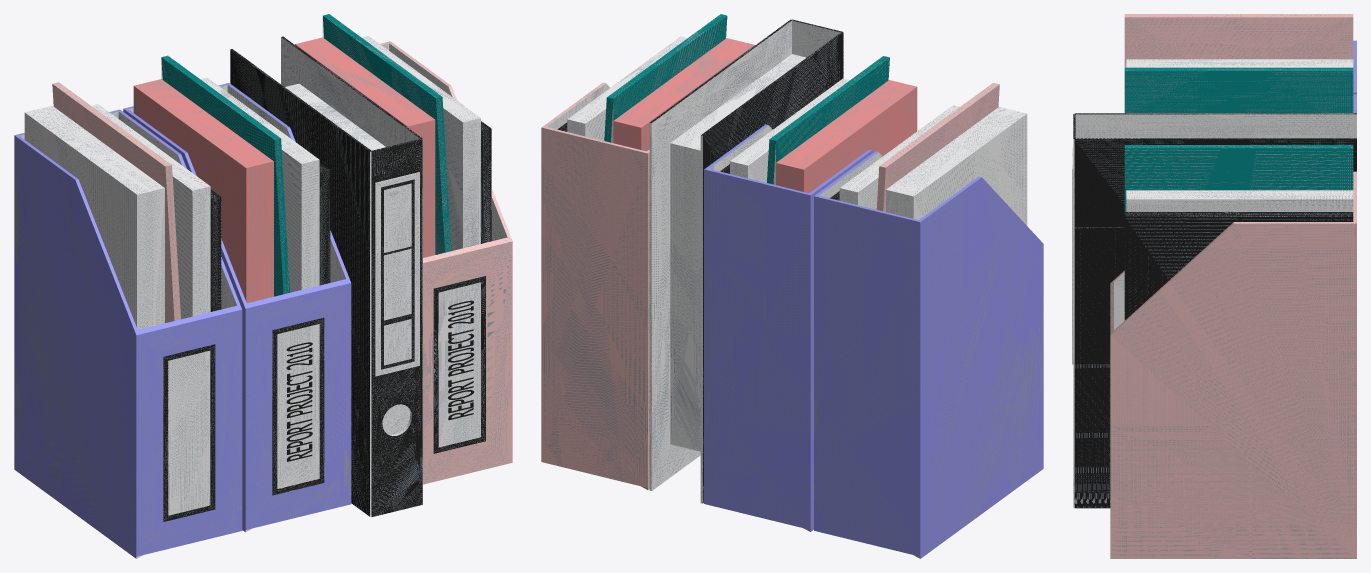
Rendered from FILEKEEPER.dae.
3 views of the same model, side by side, from view 1: azimuth 30°, elevation 25°; view 2: azimuth 150°, elevation 25°; view 3: azimuth 270°, elevation 25° (orthographic).
Parts seen in each view (by area): view 1: group_2 (×7), group_1 (×7), group_4 (×9), group_3 (×7); view 2: group_2 (×4), group_1 (×4), group_3 (×4), group_4 (×3); view 3: group_3 (×4), group_4 (×3), group_2 (×2), group_1.
Part boxes in pixels (x1=…): group_2 (×7): x1=14, y1=82, x2=242, y2=558; group_1 (×7): x1=123, y1=55, x2=351, y2=531; group_4 (×9): x1=230, y1=36, x2=422, y2=516; group_3 (×7): x1=295, y1=14, x2=512, y2=484; group_2 (×4): x1=814, y1=82, x2=1043, y2=558; group_1 (×4): x1=704, y1=56, x2=917, y2=531; group_3 (×4): x1=541, y1=14, x2=754, y2=489; group_4 (×3): x1=649, y1=19, x2=843, y2=503; group_3 (×4): x1=1110, y1=145, x2=1356, y2=558; group_4 (×3): x1=1072, y1=113, x2=1356, y2=508; group_2 (×2): x1=1124, y1=14, x2=1353, y2=67; group_1: x1=1124, y1=67, x2=1353, y2=113.
Bounding box in the file's own units: 14 × 9.09 × 13.53.
